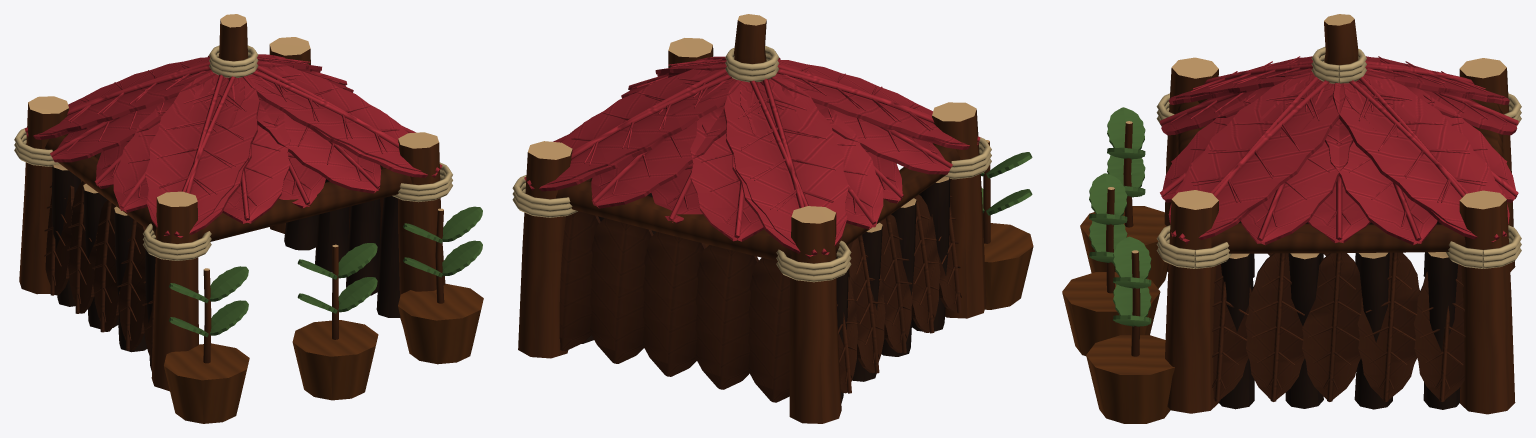
The picture shows the model from 3 angles, left to right: view 1: azimuth 30°, elevation 25°; view 2: azimuth 150°, elevation 25°; view 3: azimuth 270°, elevation 25°; orthographic projection. The views are drawn at different scales.
Parts seen in each view (by area): view 1: canopy-forester · evaluated preview mesh; view 2: canopy-forester · evaluated preview mesh; view 3: canopy-forester · evaluated preview mesh.
Boxes of the visible parts, <box> form: canopy-forester · evaluated preview mesh: <box>14,14,483,423</box>; canopy-forester · evaluated preview mesh: <box>512,14,1033,423</box>; canopy-forester · evaluated preview mesh: <box>1062,14,1521,423</box>.
Bounding box in the file's own units: 3.39 × 3.01 × 3.83.
Materials: 8 (5 with a texture image).
